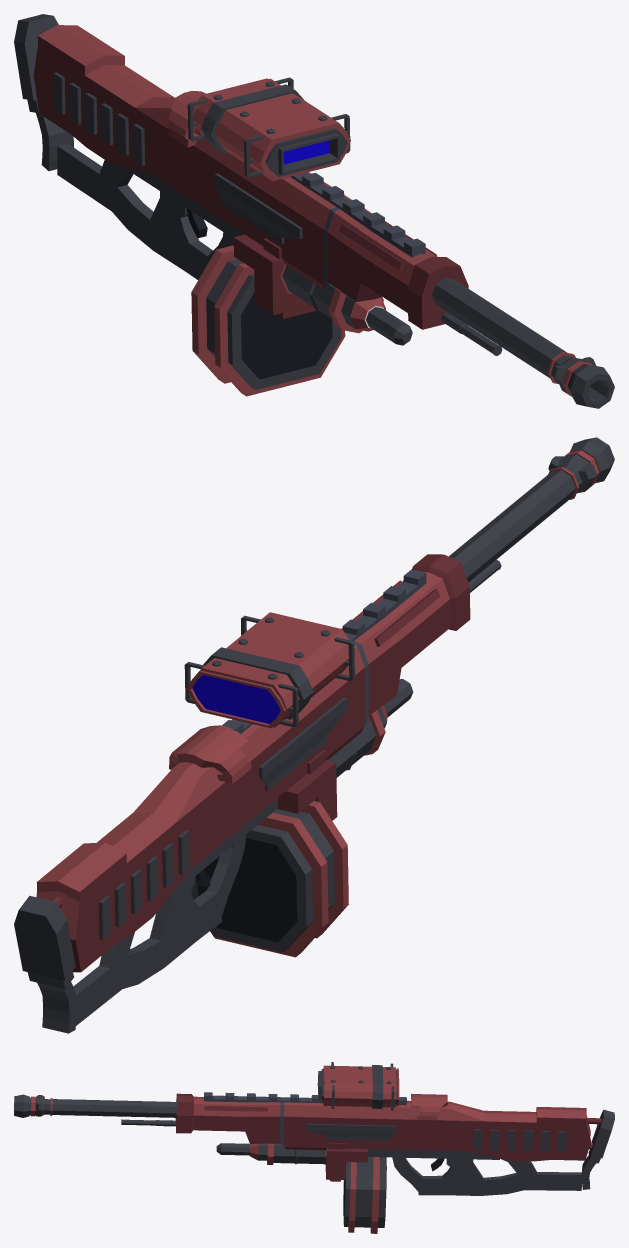
Rendered from Sniper_Rifle.fbx.
3 views of the same model, one above another, from view 1: azimuth 30°, elevation 25°; view 2: azimuth 150°, elevation 25°; view 3: azimuth 270°, elevation 25° (orthographic). The views are drawn at different scales.
Visible parts, largest first — view 1: Sniper_Rifle; view 2: Sniper_Rifle; view 3: Sniper_Rifle.
Part boxes in pixels (x1,y1,x2,y2): Sniper_Rifle: (14,14,614,408); Sniper_Rifle: (14,437,614,1033); Sniper_Rifle: (14,1062,614,1233).
Size of the model in its own units: 0.1425 by 0.2953 by 1.07.
